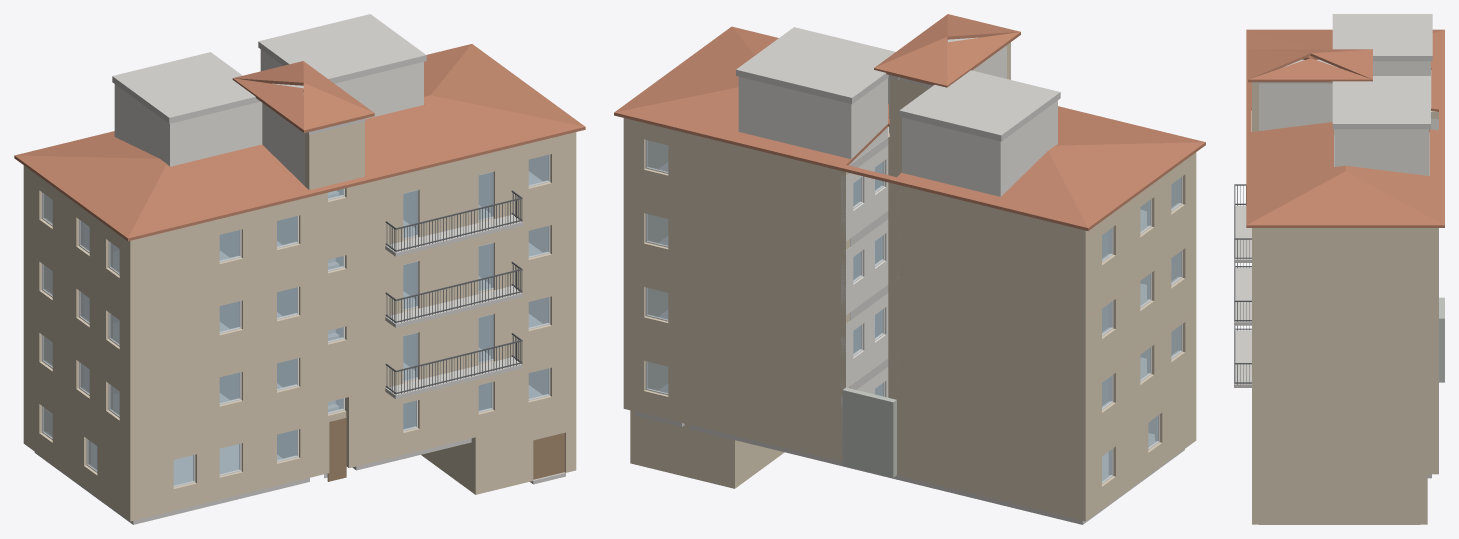
The model's file is estado-actual.glb.
The picture shows the model from 3 angles, left to right: view 1: azimuth 30°, elevation 25°; view 2: azimuth 150°, elevation 25°; view 3: azimuth 270°, elevation 25°; orthographic projection. The views are drawn at different scales.
Visible parts, largest first — view 1: cubierta__teja, p2__fachada, p1__fachada, p3__fachada, pb__fachada, cubierta__forjado, cubierta__muro, sotano__fachada, p1__vidrio, p2__vidrio, p3__vidrio, pb__vidrio (+21 smaller); view 2: p1__fachada, p2__fachada, pb__fachada, p3__fachada, cubierta__teja, cubierta__muro, cubierta__forjado, sotano__fachada, pb__contexto, p2__muro, p1__muro, p3__muro (+9 smaller); view 3: cubierta__teja, p1__fachada, p2__fachada, sotano__fachada, p3__fachada, cubierta__forjado, pb__fachada, cubierta__muro, p1__forjado, p2__forjado, p3__forjado, pb__contexto (+4 smaller).
Boxes of the visible parts, x1,y1,x2,y2 form: cubierta__teja: (14,44,585,241); p2__fachada: (23,199,576,378); p1__fachada: (23,270,576,450); p3__fachada: (23,132,576,307); pb__fachada: (23,341,576,521); cubierta__forjado: (112,14,426,134); cubierta__muro: (114,49,423,185); sotano__fachada: (421,373,576,494); p1__vidrio: (43,297,548,415); p2__vidrio: (43,226,548,344); p3__vidrio: (43,154,548,273); pb__vidrio: (43,368,548,485); p1__fachada: (623,261,1196,447); p2__fachada: (623,187,1196,373); pb__fachada: (623,335,1196,521); p3__fachada: (623,118,1196,299); cubierta__teja: (614,14,1205,230); cubierta__muro: (738,45,1057,196); cubierta__forjado: (736,27,1060,167); sotano__fachada: (630,370,784,488); pb__contexto: (842,387,896,477); p2__muro: (841,219,1108,331); p1__muro: (841,293,1108,405); p3__muro: (841,145,1108,257); cubierta__teja: (1246,29,1444,227); p1__fachada: (1252,349,1438,411); p2__fachada: (1252,287,1438,349); sotano__fachada: (1252,462,1427,524); p3__fachada: (1252,111,1438,286); cubierta__forjado: (1251,14,1432,175); pb__fachada: (1252,412,1438,474); cubierta__muro: (1259,61,1430,175); p1__forjado: (1234,330,1251,387); p2__forjado: (1234,268,1251,325); p3__forjado: (1234,205,1251,262); pb__contexto: (1439,297,1444,382).
Bounding box in the file's own units: 19.7 × 17.49 × 8.97.
